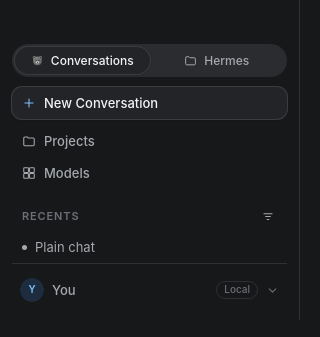
Test: Hermes section › does not also render Hermes conversations in the Conversations segment
The width and height of the screenshot is (320, 337).
Expected: the text "ZRResearch" is not shown
Expected: the text "Plain chat" is shown, [35,239,95,255]
Step 1. Click the button "Hermes" → (217, 60), box [150,47,284,74]
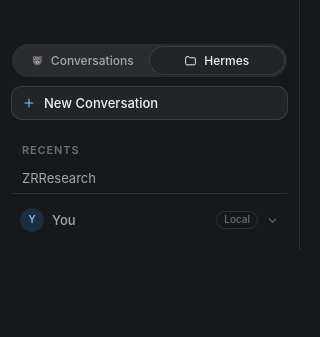
Expected: the text "ZRResearch" is shown once, [22,170,96,186]
Now the button "Plain chat" is gone
